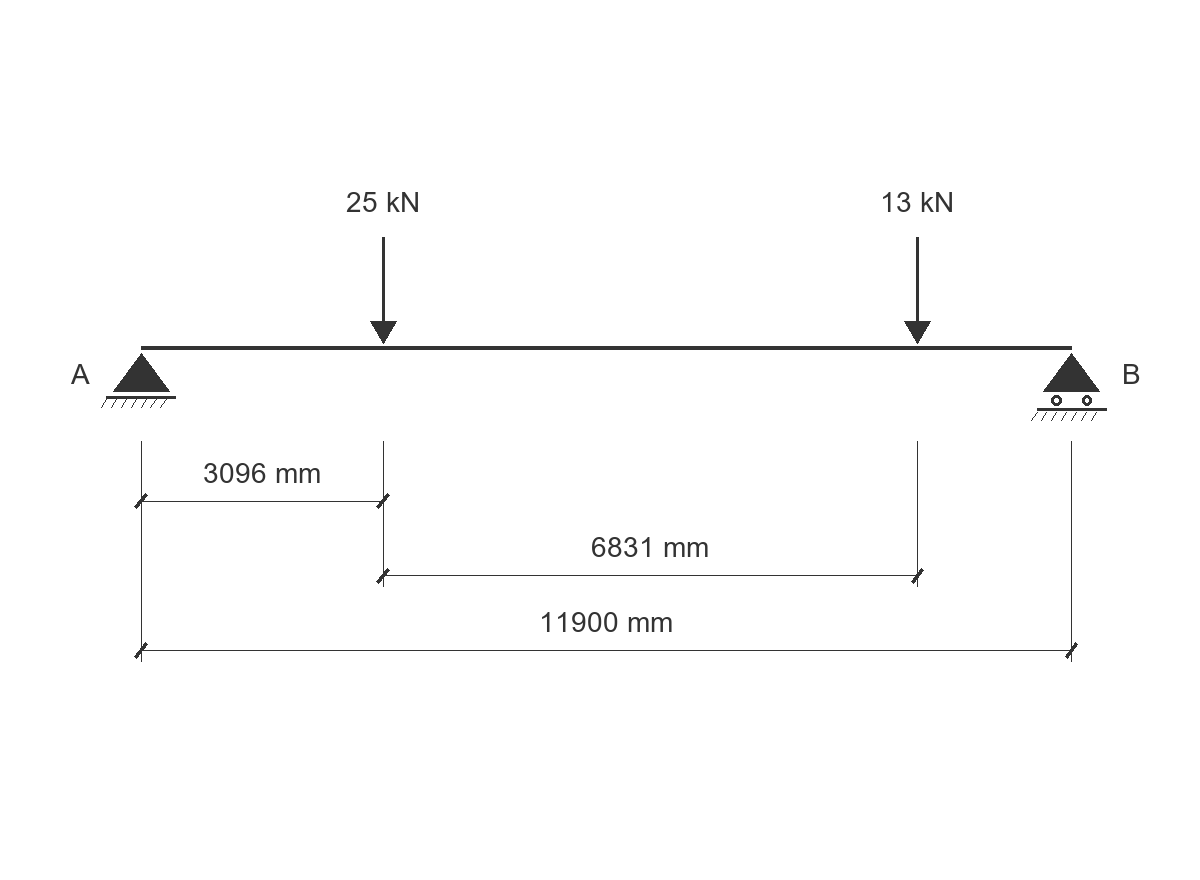pin_support: (101, 353, 176, 408)
point_load: (370, 237, 397, 344), (904, 237, 931, 344)
roller_support: (1031, 353, 1107, 421)
